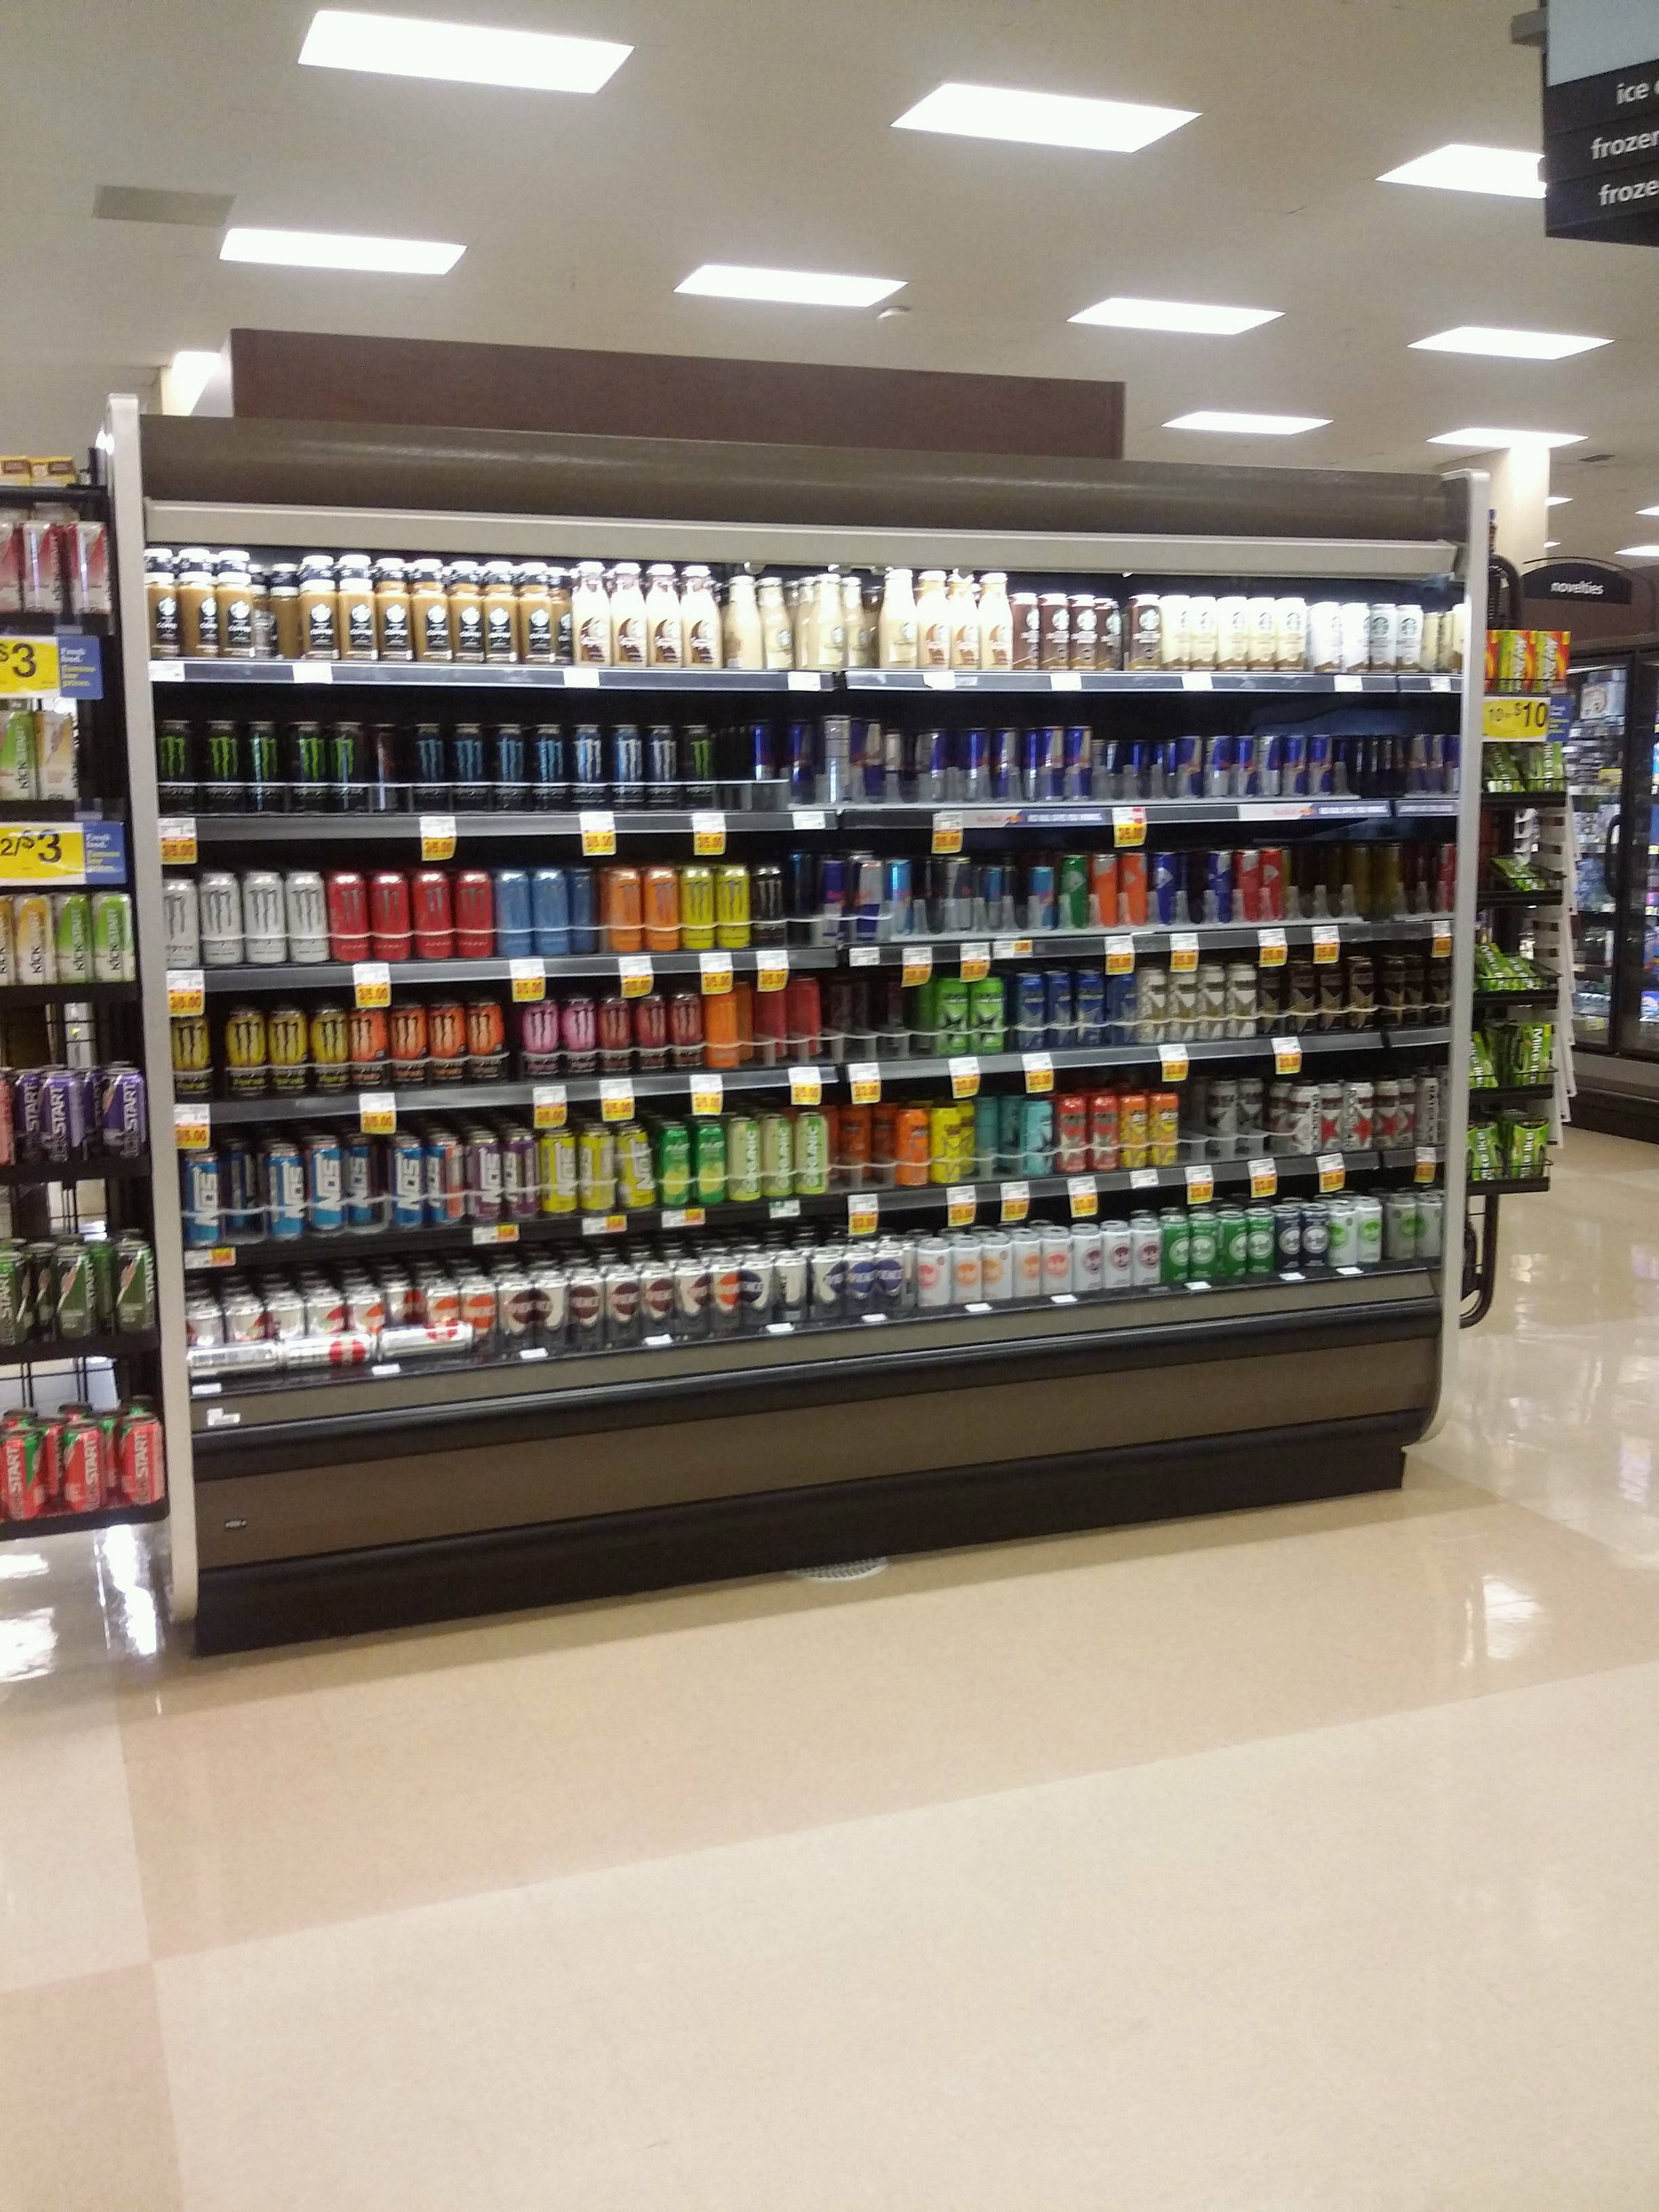product: (570, 566, 613, 669), (17, 521, 61, 622), (99, 1066, 145, 1162), (14, 894, 59, 989), (878, 571, 918, 678), (56, 1245, 98, 1345), (289, 869, 329, 972), (200, 714, 240, 815), (225, 1003, 270, 1092), (681, 568, 720, 672), (5, 1428, 47, 1524), (812, 573, 850, 674), (47, 1069, 85, 1170), (122, 1413, 162, 1508), (117, 1240, 155, 1338), (68, 1416, 105, 1517), (613, 564, 647, 672), (0, 707, 37, 805), (284, 719, 324, 808), (725, 573, 760, 674), (647, 563, 680, 669), (157, 716, 193, 812), (971, 968, 1011, 1055), (188, 1148, 221, 1252), (884, 853, 925, 935), (328, 723, 366, 812), (223, 563, 256, 665), (375, 568, 410, 665), (411, 570, 448, 662), (301, 570, 336, 665), (73, 521, 108, 617), (464, 998, 500, 1089), (246, 876, 282, 967), (99, 894, 136, 984), (340, 566, 373, 665), (268, 1143, 301, 1242), (528, 871, 568, 953), (1486, 846, 1556, 894), (375, 874, 411, 963), (1495, 629, 1541, 700), (763, 575, 796, 672), (207, 874, 242, 967), (410, 721, 448, 805), (603, 1271, 641, 1355), (40, 709, 73, 805), (450, 561, 481, 662), (518, 566, 549, 667), (335, 873, 369, 963), (519, 996, 559, 1075), (183, 557, 214, 657), (390, 1139, 423, 1233), (434, 1141, 467, 1235), (584, 1120, 615, 1219), (312, 1001, 347, 1090), (486, 568, 518, 665), (249, 718, 281, 815), (620, 1123, 653, 1216), (228, 1137, 261, 1230), (223, 1303, 263, 1378), (350, 1003, 383, 1094), (310, 1139, 343, 1230), (577, 719, 610, 810), (418, 871, 451, 961), (460, 874, 497, 956), (542, 1130, 577, 1216), (716, 864, 749, 953), (645, 864, 678, 953), (983, 571, 1011, 676), (796, 1111, 831, 1195), (598, 989, 633, 1073), (267, 570, 298, 662), (816, 714, 847, 806), (725, 1118, 758, 1205), (681, 719, 714, 806), (535, 719, 568, 806), (457, 718, 488, 808), (61, 890, 91, 986), (854, 719, 887, 805), (814, 857, 845, 946), (948, 578, 978, 672), (277, 1003, 308, 1092), (897, 1099, 929, 1188), (1134, 963, 1168, 1047), (753, 862, 786, 946), (392, 1005, 425, 1089), (706, 988, 739, 1071), (368, 721, 397, 813), (1129, 590, 1164, 669), (171, 874, 199, 972), (350, 1137, 380, 1228), (153, 552, 178, 662), (507, 1134, 538, 1219), (784, 718, 812, 812), (495, 1284, 532, 1355), (185, 1313, 221, 1385), (1514, 1014, 1549, 1089), (685, 864, 714, 951), (495, 723, 525, 810), (469, 1136, 497, 1228), (612, 723, 643, 805), (1504, 1111, 1539, 1184), (310, 1292, 343, 1369), (612, 867, 641, 953), (638, 995, 667, 1080), (647, 719, 676, 805), (932, 1103, 964, 1183), (268, 1301, 303, 1372), (430, 1001, 460, 1085), (1121, 1089, 1150, 1170), (1040, 590, 1070, 672), (350, 1294, 383, 1367), (748, 721, 774, 813), (1469, 1111, 1500, 1188), (920, 721, 948, 806), (1284, 953, 1314, 1033), (791, 975, 821, 1055), (1025, 1099, 1054, 1179), (1035, 725, 1065, 805), (535, 1277, 565, 1357), (1091, 1090, 1119, 1174), (662, 1123, 690, 1207), (1229, 961, 1258, 1040), (1349, 949, 1378, 1028), (1056, 855, 1086, 934), (1121, 848, 1150, 927), (843, 1101, 873, 1179), (427, 1289, 462, 1355), (570, 1275, 601, 1348), (920, 568, 943, 669), (756, 974, 782, 1061), (178, 1014, 204, 1101), (1260, 846, 1290, 923), (913, 1242, 946, 1310), (1199, 850, 1230, 921), (1058, 1094, 1086, 1174), (1317, 958, 1347, 1033), (573, 866, 598, 956), (938, 974, 965, 1052), (1068, 721, 1094, 805), (701, 1116, 725, 1205), (1152, 846, 1178, 928), (1091, 850, 1117, 932), (1152, 1082, 1178, 1163), (948, 857, 976, 934), (1079, 965, 1105, 1045), (1345, 1075, 1371, 1155), (1344, 597, 1370, 678), (1291, 1082, 1319, 1157), (765, 1115, 789, 1200), (875, 1244, 904, 1313), (1047, 970, 1073, 1049), (1169, 963, 1195, 1042), (1199, 958, 1223, 1042), (462, 1284, 490, 1357), (502, 873, 526, 956), (1476, 932, 1509, 993), (1190, 596, 1216, 672), (1220, 597, 1246, 674), (1248, 596, 1274, 672), (1134, 1207, 1159, 1289), (566, 991, 591, 1073), (1103, 1219, 1131, 1291), (1281, 601, 1309, 672), (1239, 1076, 1265, 1151), (779, 1256, 805, 1329), (993, 726, 1019, 799), (1370, 604, 1398, 672), (1213, 1075, 1237, 1151), (1014, 590, 1039, 667), (1042, 1228, 1068, 1299), (859, 853, 880, 942), (1492, 728, 1520, 794), (845, 1249, 870, 1324), (1073, 594, 1098, 669), (1419, 1075, 1443, 1150), (389, 1285, 413, 1360), (746, 1261, 772, 1331), (1019, 970, 1042, 1050), (680, 1270, 702, 1350), (1464, 1028, 1493, 1089), (962, 728, 986, 801), (1314, 599, 1338, 672), (812, 1256, 838, 1324), (645, 1273, 671, 1341), (676, 988, 697, 1071), (1218, 1207, 1243, 1278), (1166, 1209, 1188, 1285), (1232, 733, 1258, 799), (1014, 1231, 1039, 1301), (1398, 604, 1422, 674), (953, 1244, 979, 1308), (1237, 848, 1258, 928), (1166, 592, 1187, 672), (716, 1264, 739, 1338), (1431, 841, 1453, 913), (986, 864, 1009, 935), (1387, 1197, 1412, 1263), (1075, 1226, 1100, 1291), (1359, 1195, 1382, 1263), (1274, 1202, 1297, 1270), (1378, 1078, 1399, 1151), (1420, 1190, 1443, 1256), (1309, 735, 1331, 801), (1260, 733, 1283, 799), (1378, 953, 1399, 1024), (1192, 1214, 1213, 1284), (1028, 860, 1049, 930), (985, 1242, 1009, 1301), (1204, 737, 1227, 799), (1101, 596, 1121, 669), (1178, 735, 1199, 801), (1307, 1202, 1328, 1266), (1263, 954, 1281, 1031), (1427, 960, 1448, 1022), (1326, 1080, 1344, 1155), (1406, 728, 1425, 796), (1399, 1078, 1417, 1150), (1448, 604, 1467, 669), (1251, 1205, 1269, 1275), (1286, 738, 1305, 801), (1427, 733, 1446, 796), (1335, 1200, 1352, 1268), (1408, 951, 1424, 1024), (1511, 944, 1534, 991)
